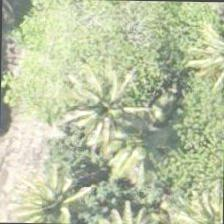Kelapa_Sawit: (65, 59, 157, 151), (13, 157, 105, 223)
